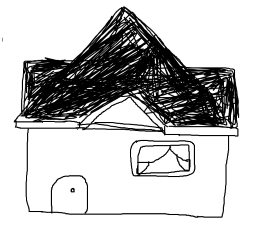door: (44, 168, 95, 219)
open_window: (126, 136, 200, 183)
shaded_roof: (14, 6, 247, 136)
wall: (22, 120, 233, 220)
